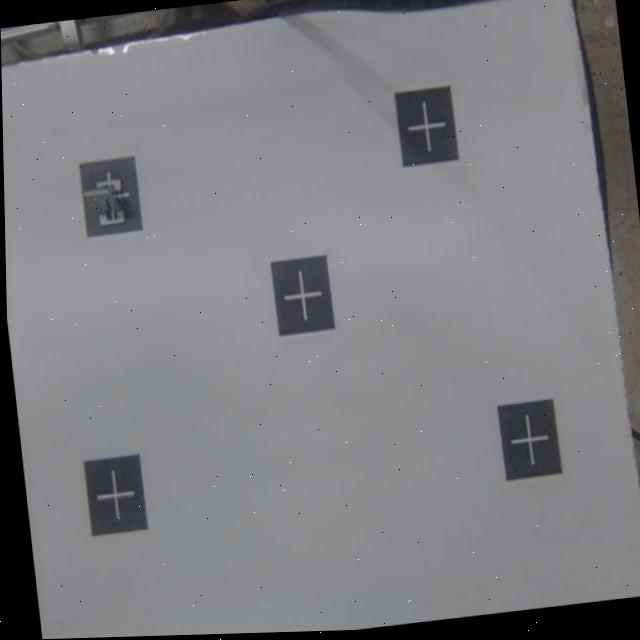pick1: (76, 153, 142, 239)
